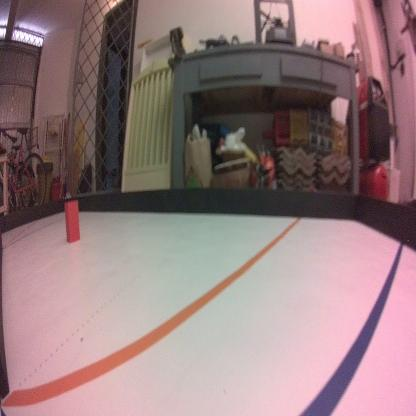red: (63, 197, 80, 244)
